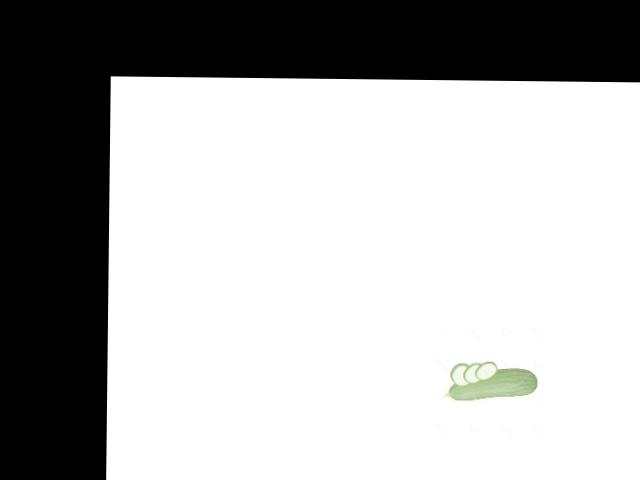cucumber: (443, 367, 538, 401)
